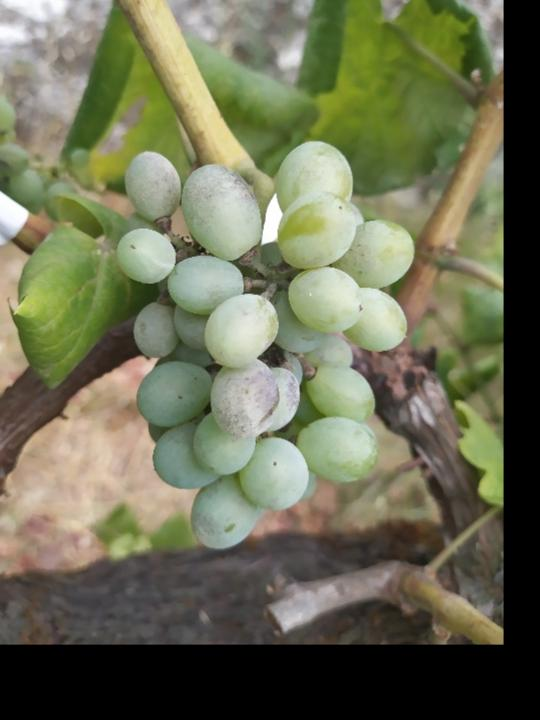grape: (113, 136, 418, 552)
